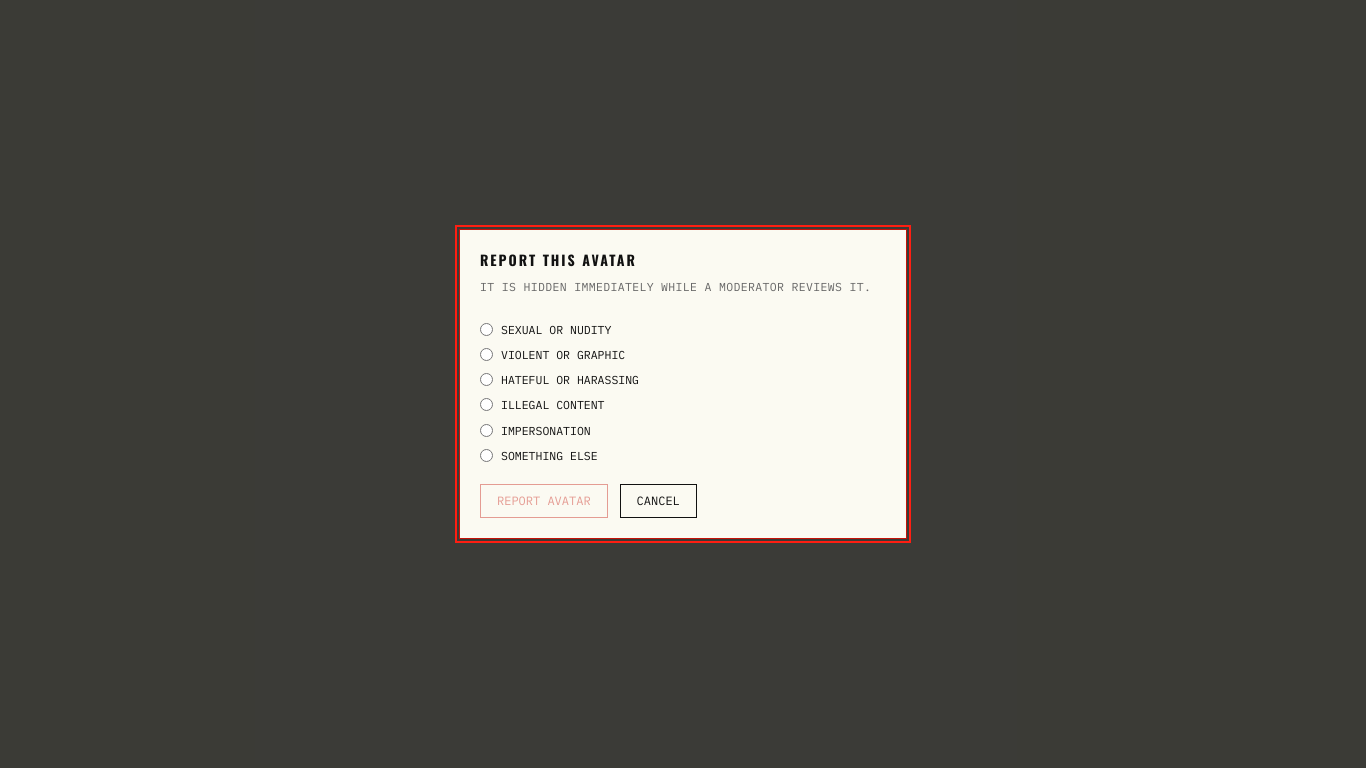
Test: ReportDialog › tells a repeat reporter their earlier report already hid it, not that nothing changed
Click the radio button labelled "Hateful or harassing".
click(486, 380)  # box left=480, top=373, right=493, bottom=386
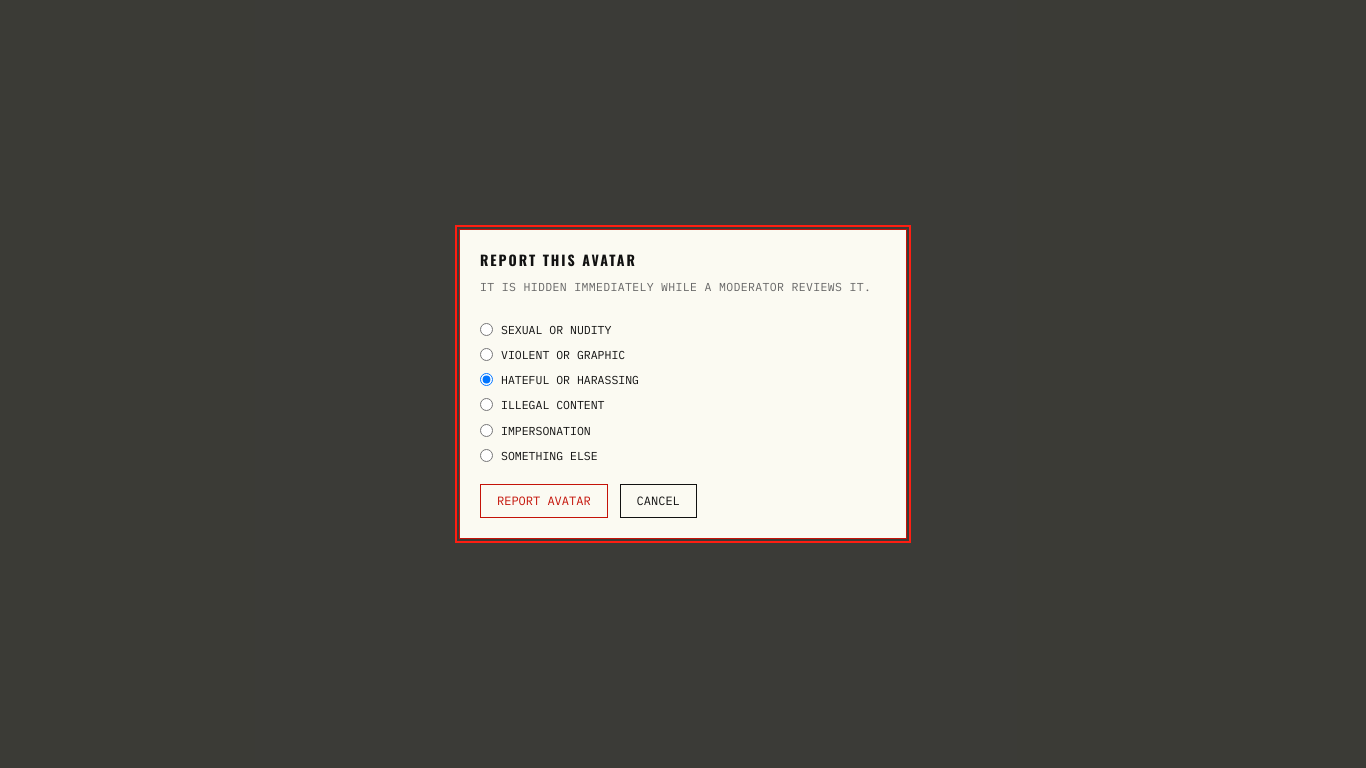
Click the button "Report avatar".
click(544, 501)  # box left=480, top=484, right=608, bottom=518
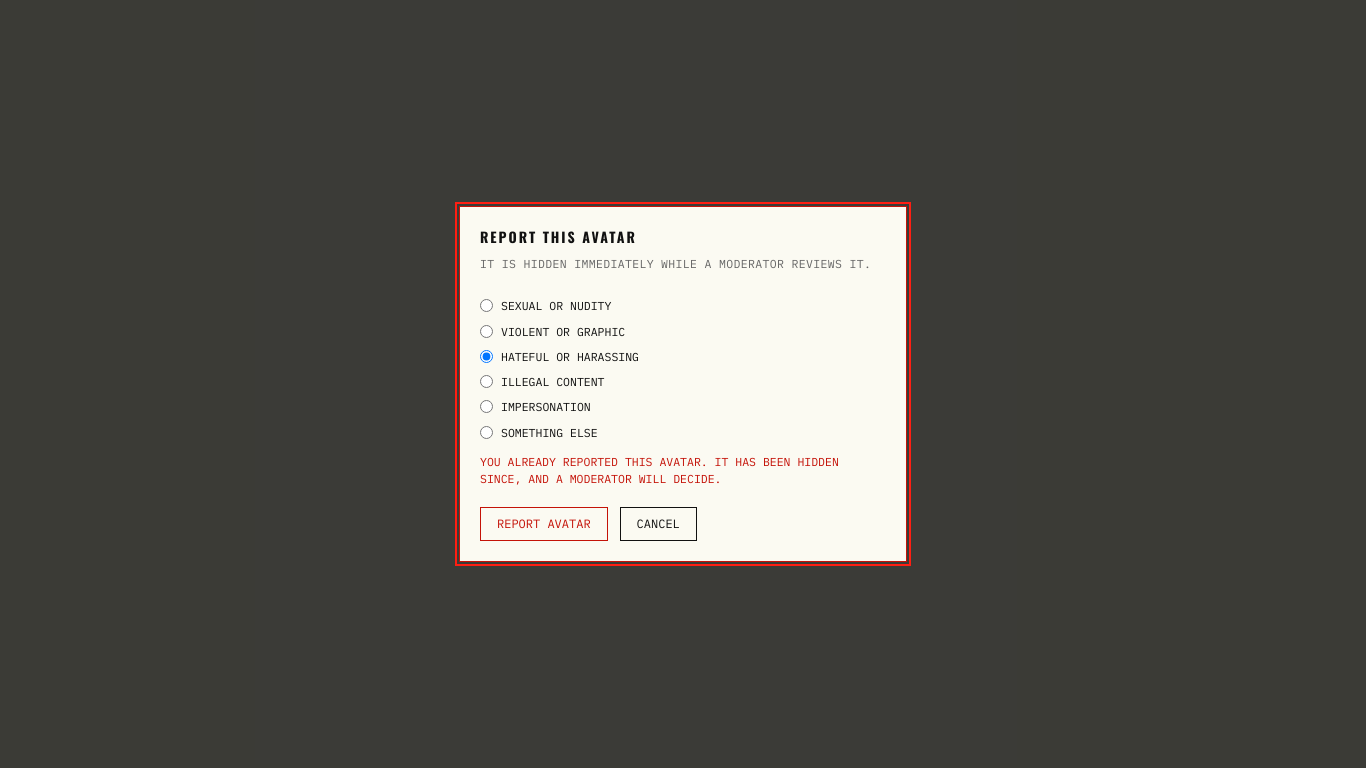
Check: the message shows "already reported", box left=480, top=454, right=839, bottom=486
